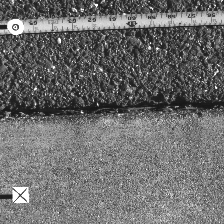circle: (6, 18, 24, 35)
crack: (1, 99, 223, 121)
square: (12, 187, 28, 203)
